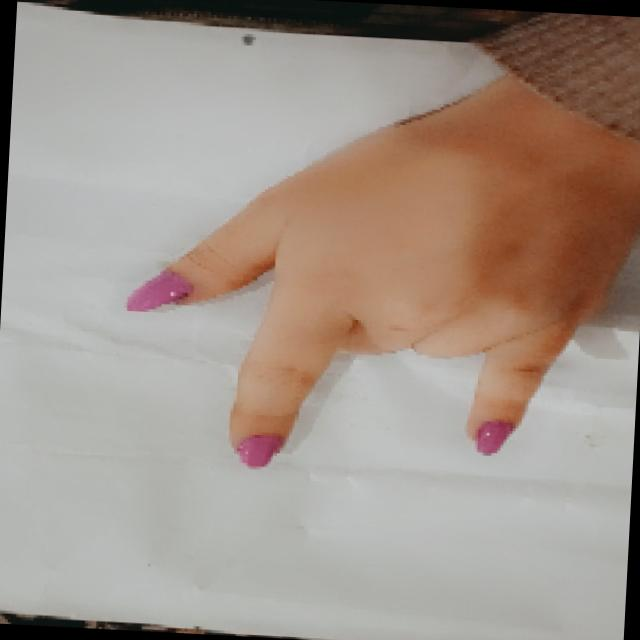Nail: (125, 269, 192, 311), (236, 434, 282, 467), (475, 421, 514, 455)
